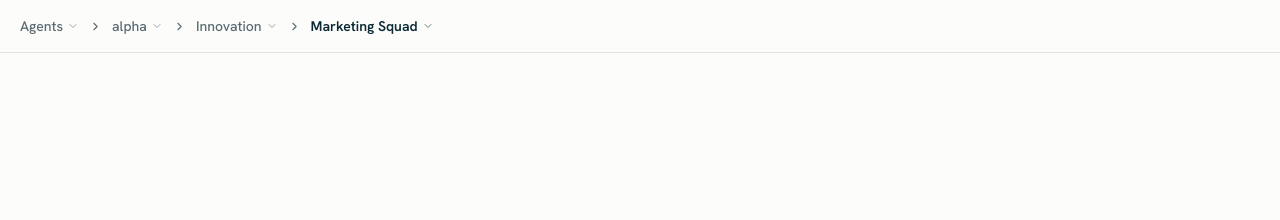
Test: Breadcrumb — changing a level › closes on Escape and on a click outside, choosing nothing
Click the button "alpha" at [137, 26], box [104,4,171,48]
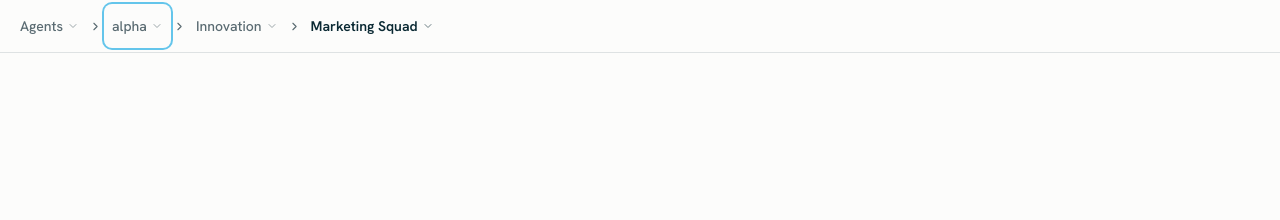
Click the button "alpha" at [137, 26], box [104,4,171,48]
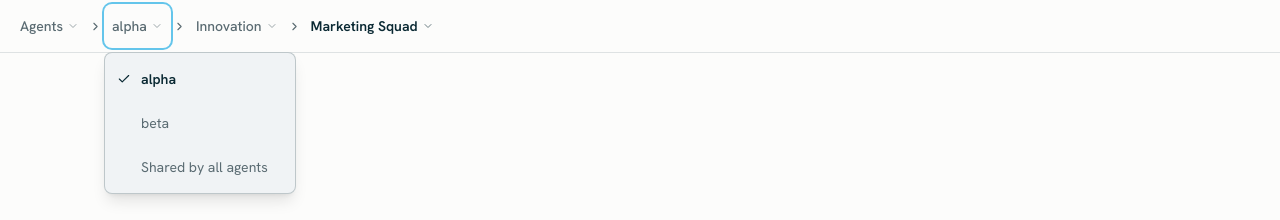
Press the mouse on the element that starts with "Agents" at [640, 26], box [0,0,1279,53]
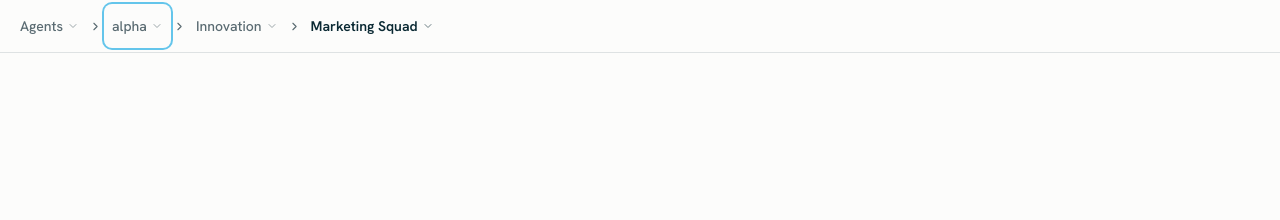
Expected: the menu is gone
